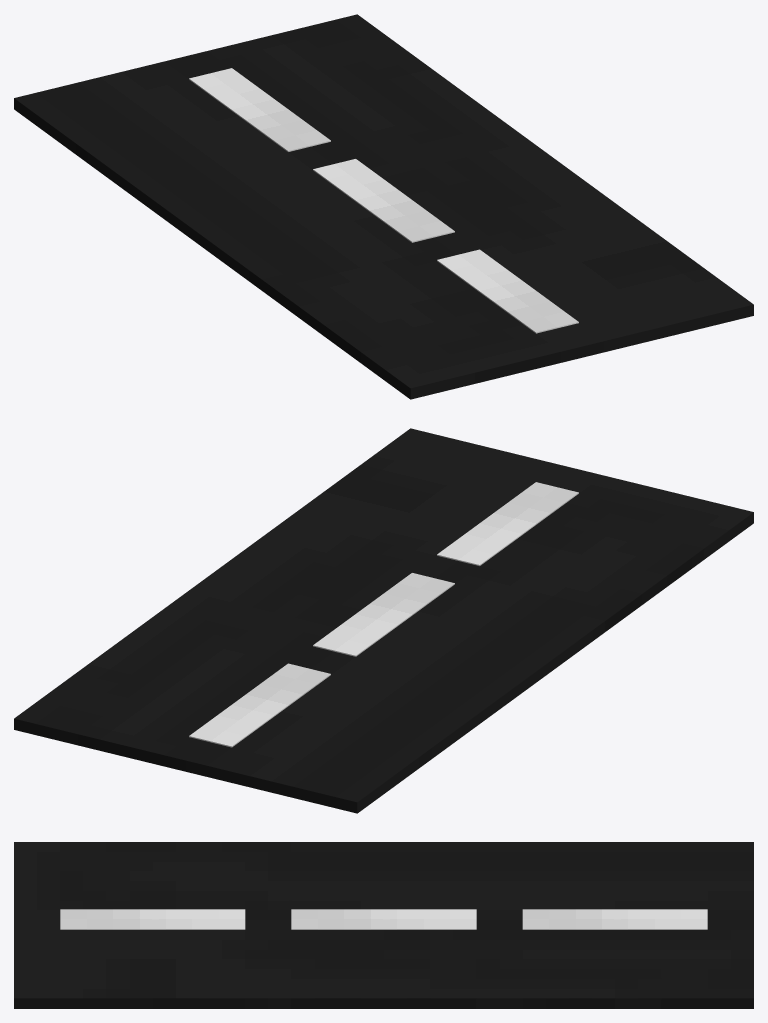
Rendered from street.gltf.
3 renders of one model, top to bottom at view 1: azimuth 30°, elevation 25°; view 2: azimuth 150°, elevation 25°; view 3: azimuth 270°, elevation 25°, orthographic. The views are drawn at different scales.
Parts seen in each view (by area): view 1: street, raya (×3); view 2: street, raya (×3); view 3: street, raya (×3).
Part boxes in pixels (x1=…): street: x1=14, y1=14, x2=753, y2=399; raya (×3): x1=189, y1=68, x2=578, y2=333; street: x1=14, y1=428, x2=753, y2=813; raya (×3): x1=189, y1=482, x2=578, y2=747; street: x1=14, y1=842, x2=753, y2=1008; raya (×3): x1=60, y1=909, x2=707, y2=929.
Size of the model in its own units: 1 by 0.0344 by 2.
Materials: 2 (2 with a texture image).
